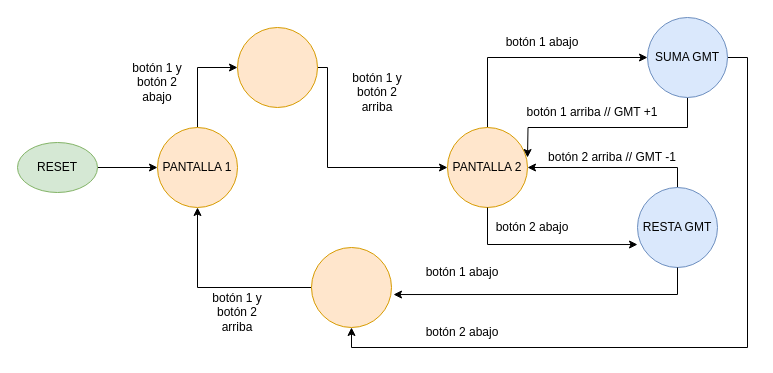
Image size: 773x373. Some labels were removed from this diagram. The shapes that lost their labels are listed below. From the top down, each one's centre as x and y in pixels, then its label:
At point (277, 67): "ESPERA 1".
At point (351, 287): "ESPERA 2".
